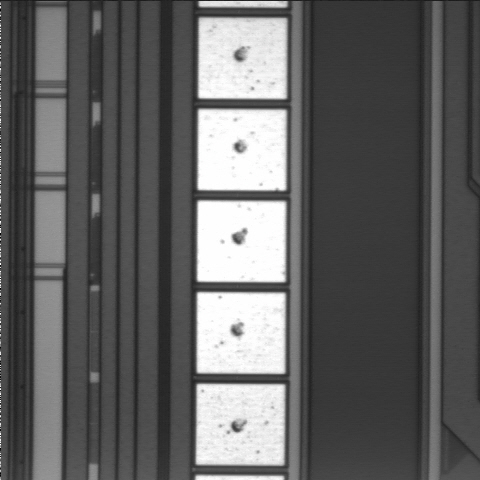pad: (197, 292, 286, 374), (198, 109, 286, 191), (198, 18, 287, 99), (197, 201, 286, 282), (196, 384, 285, 465)
